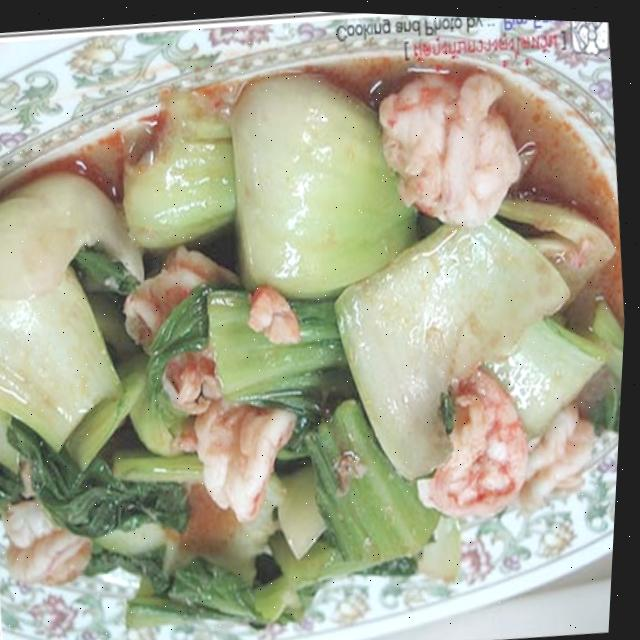蔬菜料理: (0, 31, 639, 640)
